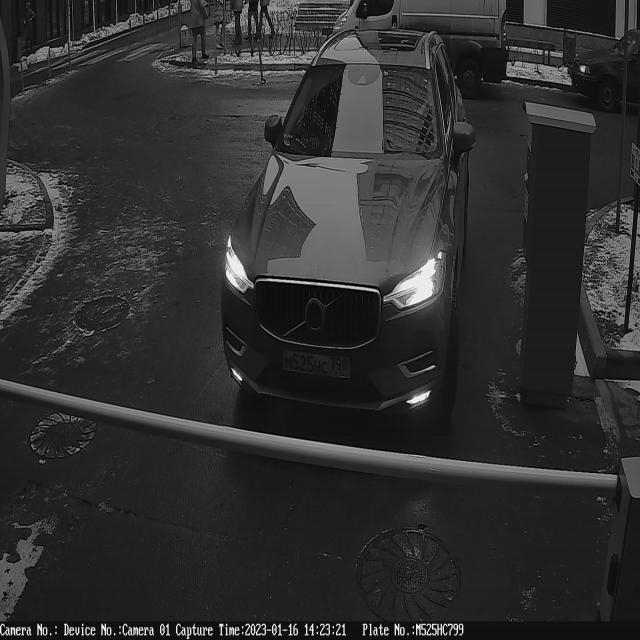car-plate-numbers: (280, 340, 355, 384)
